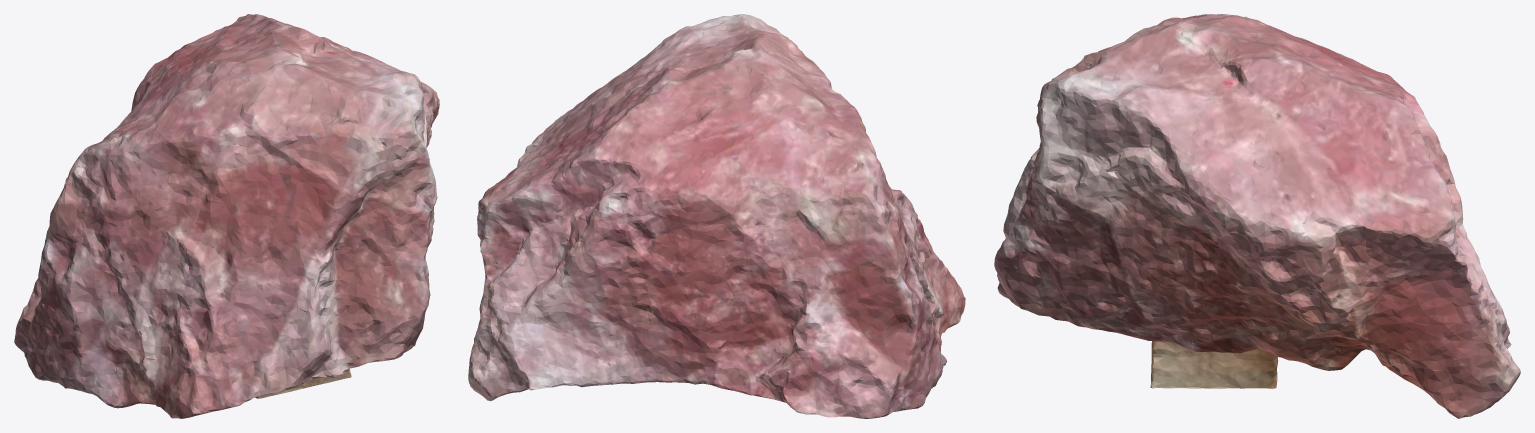
File: stier-rosenquarz.glb
3 views of the same model, side by side, from view 1: azimuth 30°, elevation 25°; view 2: azimuth 150°, elevation 25°; view 3: azimuth 270°, elevation 25° (orthographic). The views are drawn at different scales.
Bounding box in the file's own units: 0.0812 × 0.0617 × 0.0872.
Materials: 1 (1 with a texture image).
